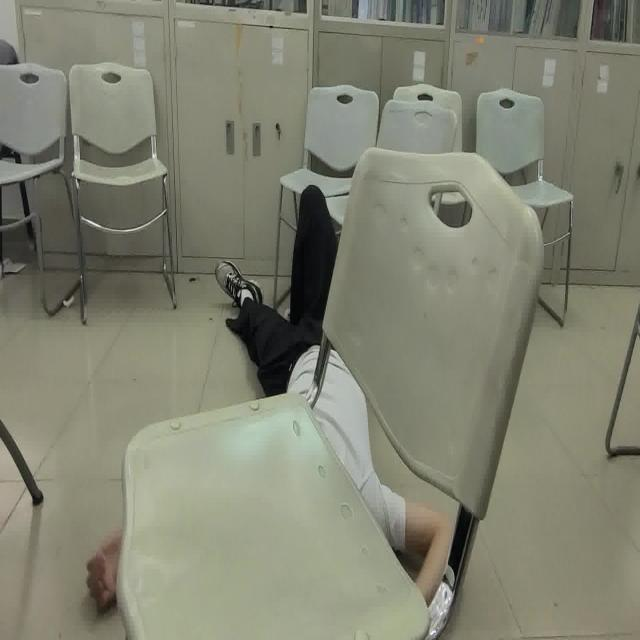Fall-Detected: (83, 176, 461, 613)
